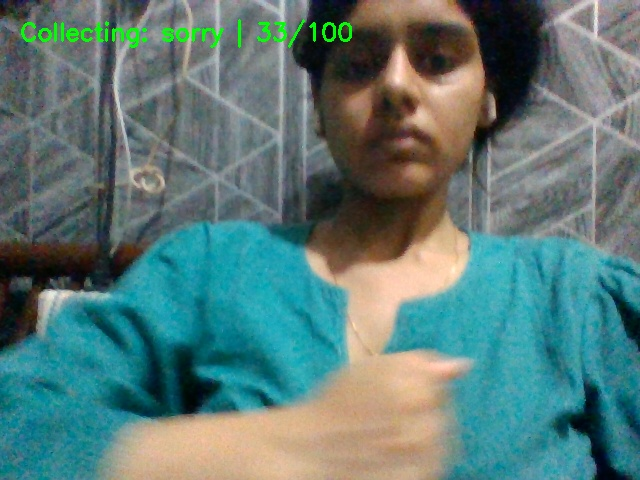sorry: (258, 339, 510, 480)
